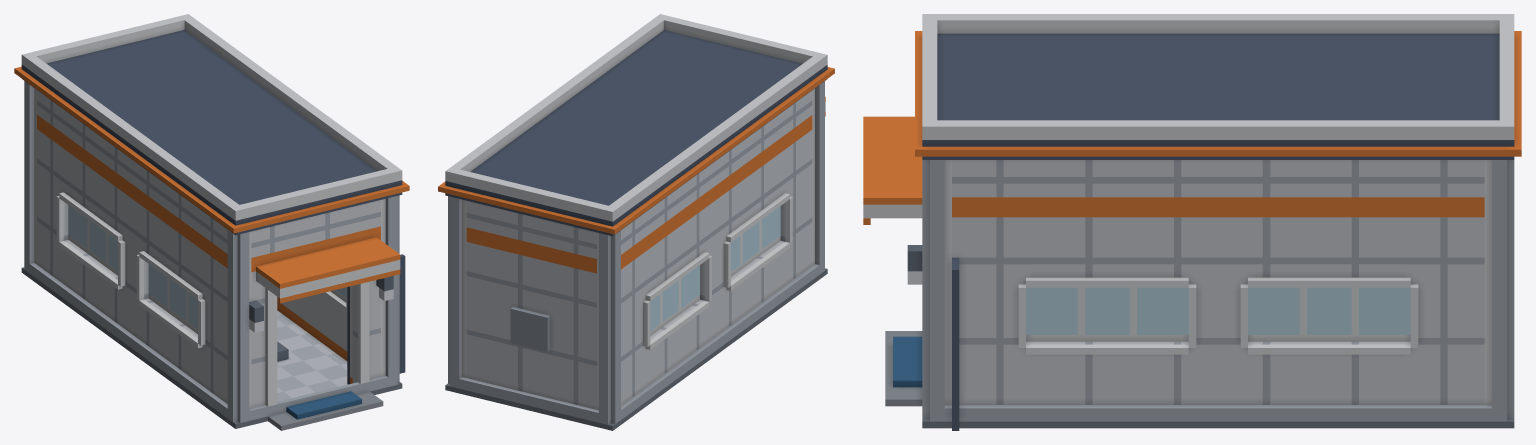
File: training_e3_l3.glb
3 renders of one model, left to right at view 1: azimuth 30°, elevation 25°; view 2: azimuth 150°, elevation 25°; view 3: azimuth 270°, elevation 25°, orthographic. The views are drawn at different scales.
Parts seen in each view (by area): view 1: CutRoof, CutNX, Base, CutPZ, CutNZ, CutPX; view 2: CutRoof, CutNX, CutNZ, Base, CutPZ; view 3: CutPX, CutRoof, Base, CutPZ, CutNZ.
Boxes of the visible parts, box(x1,y1,x2,y2) form: CutRoof: box(14, 14, 409, 235); CutNX: box(37, 90, 227, 369); Base: box(21, 226, 405, 430); CutPZ: box(227, 195, 405, 379); CutNZ: box(24, 81, 36, 230); CutPX: box(316, 287, 347, 317); CutRoof: box(438, 14, 834, 236); CutNX: box(621, 90, 812, 371); CutNZ: box(448, 196, 620, 380); Base: box(445, 227, 827, 430); CutPZ: box(812, 81, 825, 231); CutPX: box(952, 160, 1484, 357); CutRoof: box(915, 14, 1521, 159); Base: box(885, 331, 1514, 430); CutPZ: box(863, 116, 959, 370); CutNZ: box(1484, 160, 1514, 361).
Bounding box in the file's own units: 4 × 4.5 × 8.9.
